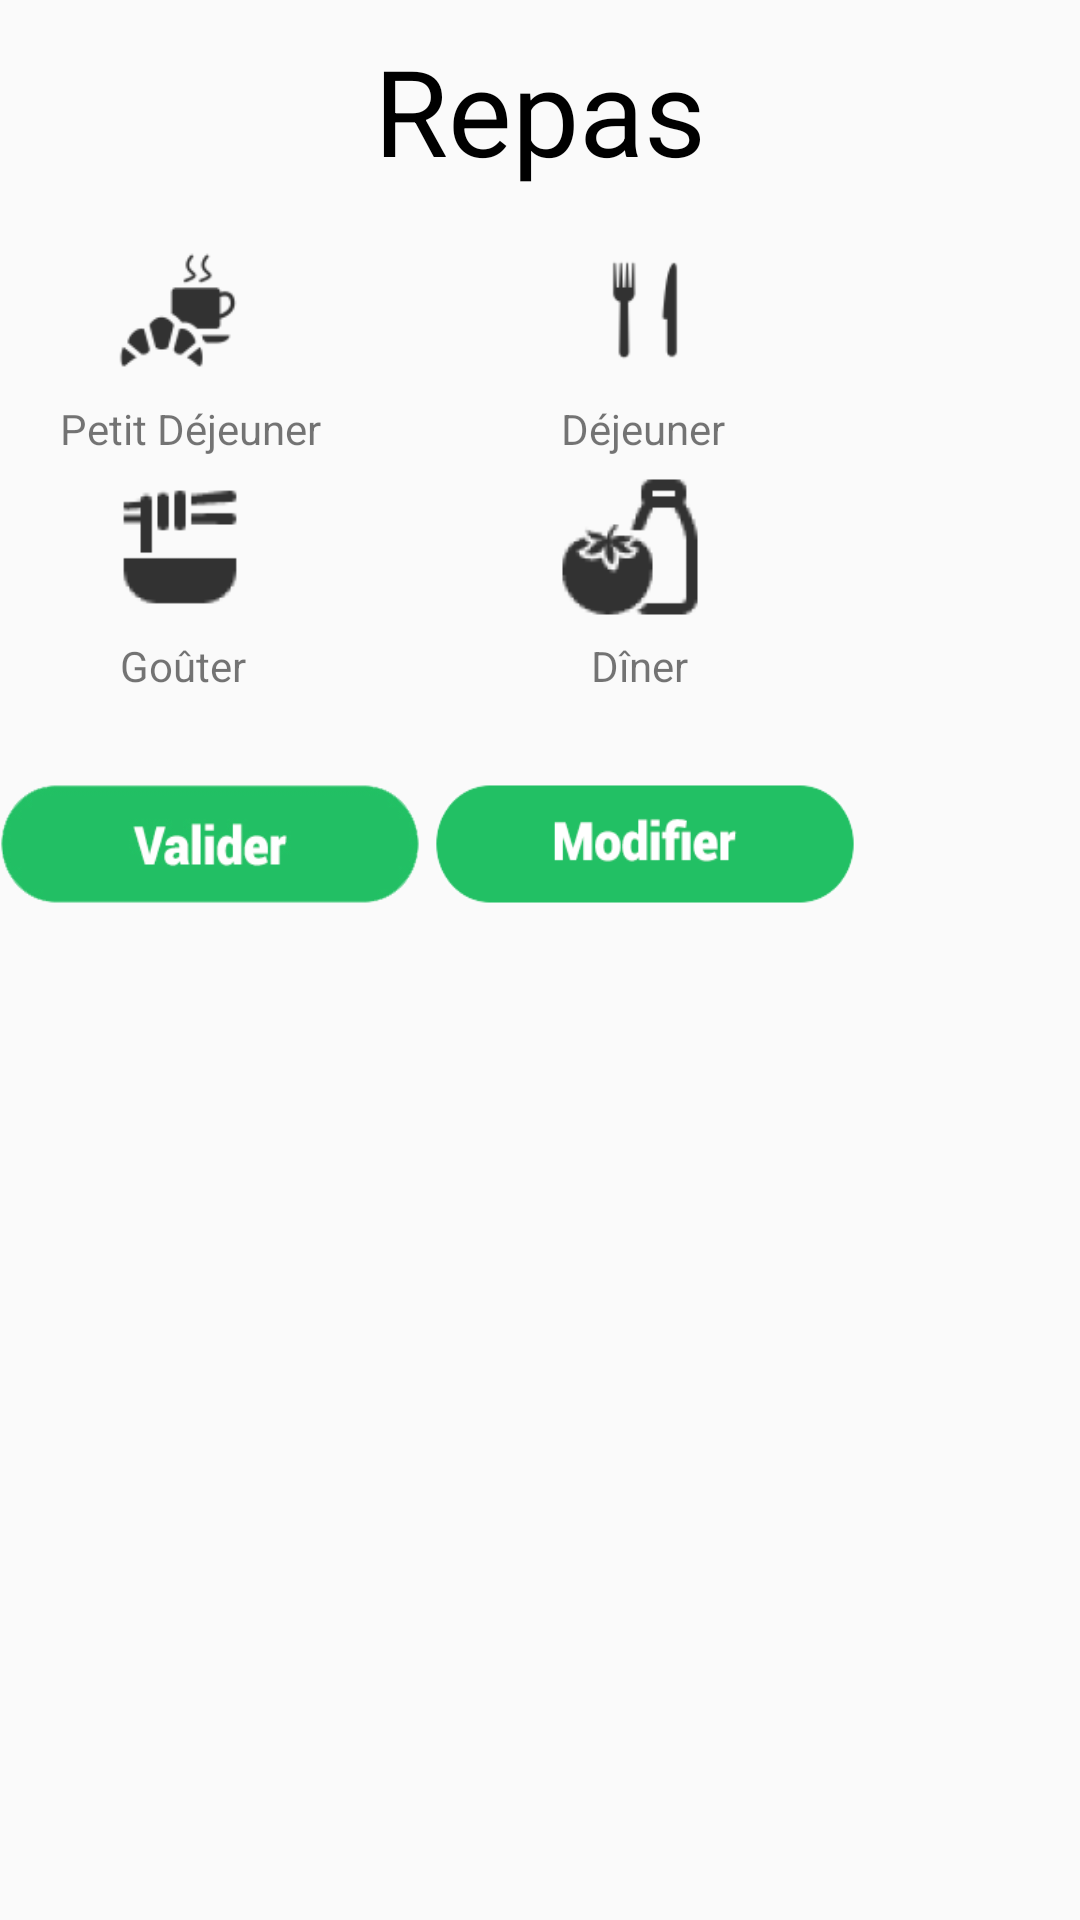

Icons on this 1080x1920 Android screen, each with the point to tap as (x,y):
home dejeuner: (645,310)
